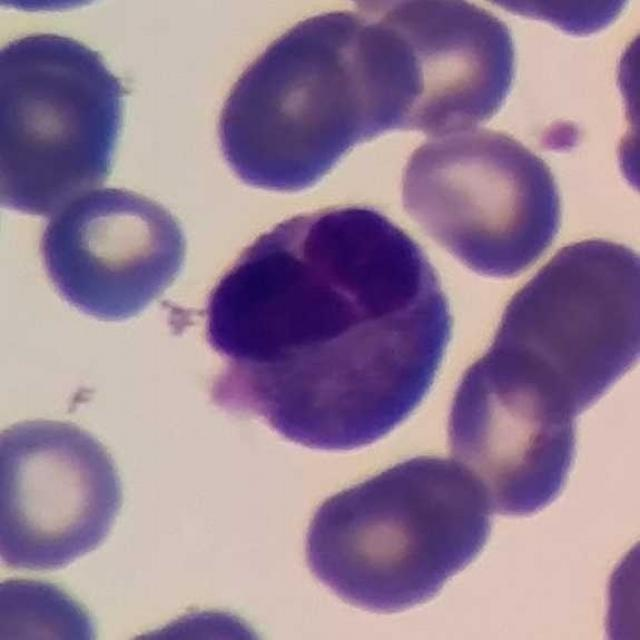Eosinophil: (170, 183, 470, 468)
Platelets: (536, 115, 589, 159)
RBC: (433, 217, 636, 534), (199, 1, 425, 204), (292, 444, 504, 622), (0, 20, 142, 226), (439, 335, 592, 523), (394, 122, 570, 280), (27, 178, 198, 331), (352, 0, 520, 135), (0, 409, 135, 576), (1, 570, 108, 640), (499, 0, 640, 46), (612, 20, 640, 208), (131, 600, 261, 640), (0, 0, 154, 28), (600, 534, 640, 639)
